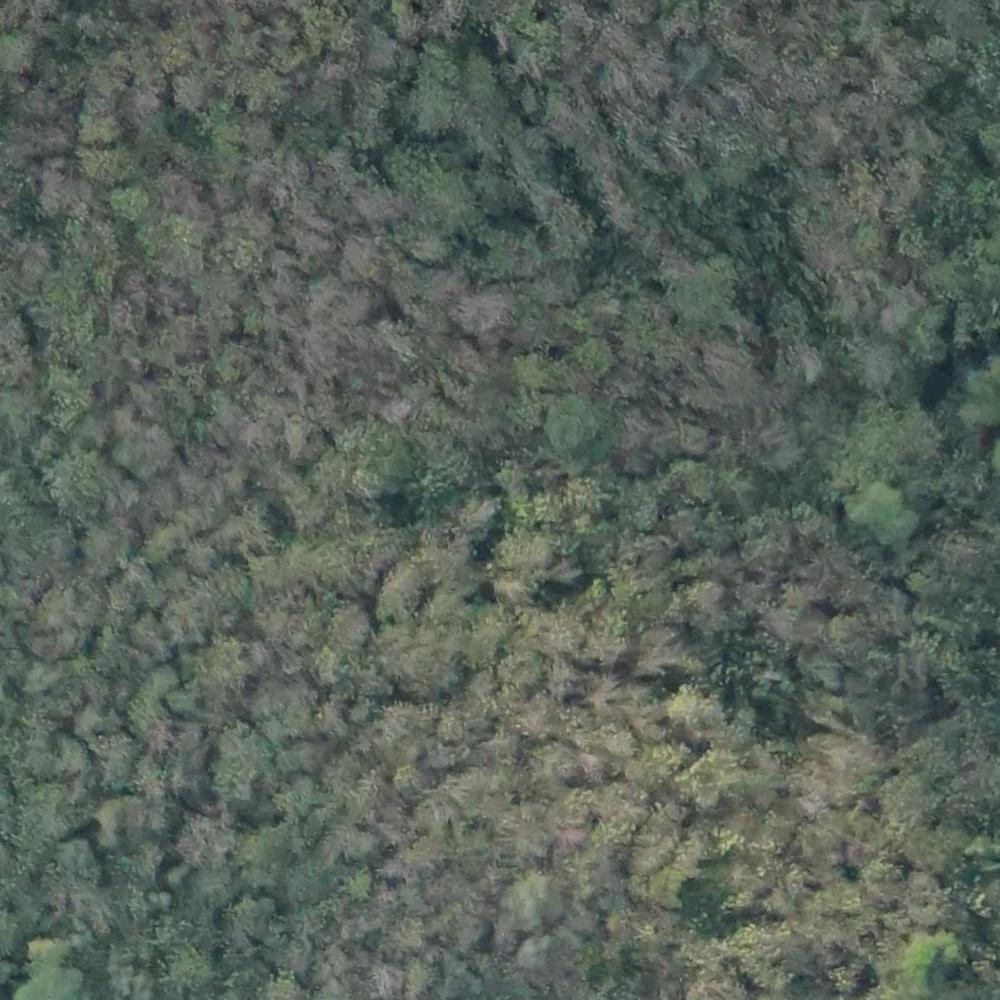tree: (832, 406, 946, 508), (207, 724, 279, 799), (411, 158, 483, 232), (335, 423, 411, 493), (549, 394, 613, 461), (449, 286, 520, 346), (900, 926, 964, 988), (225, 497, 283, 564), (366, 557, 426, 618), (851, 481, 914, 537), (668, 265, 732, 318), (854, 337, 916, 391), (502, 869, 558, 927), (668, 690, 726, 746), (48, 457, 111, 508), (120, 417, 171, 477), (761, 291, 818, 344), (340, 232, 394, 286), (98, 788, 143, 849), (752, 421, 803, 473), (168, 65, 223, 112), (41, 270, 94, 318), (14, 963, 78, 1000), (509, 935, 559, 982), (112, 186, 170, 223), (575, 340, 621, 385), (163, 596, 204, 644), (337, 825, 390, 862), (70, 98, 116, 139), (56, 833, 99, 873), (86, 146, 132, 182), (388, 761, 431, 799)
